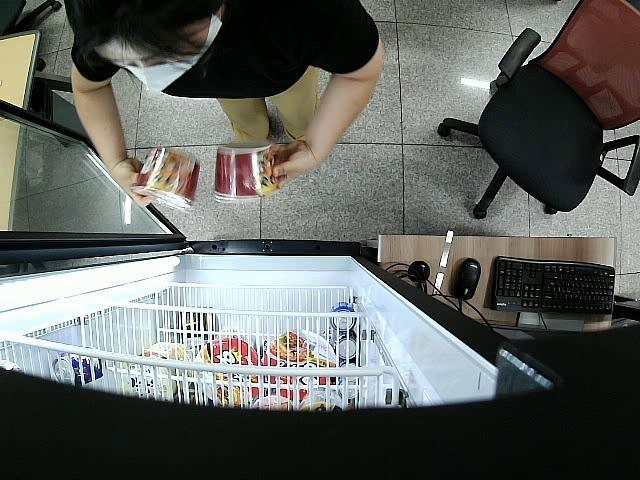05_nuguri_L: (130, 144, 200, 213), (212, 138, 281, 200)
